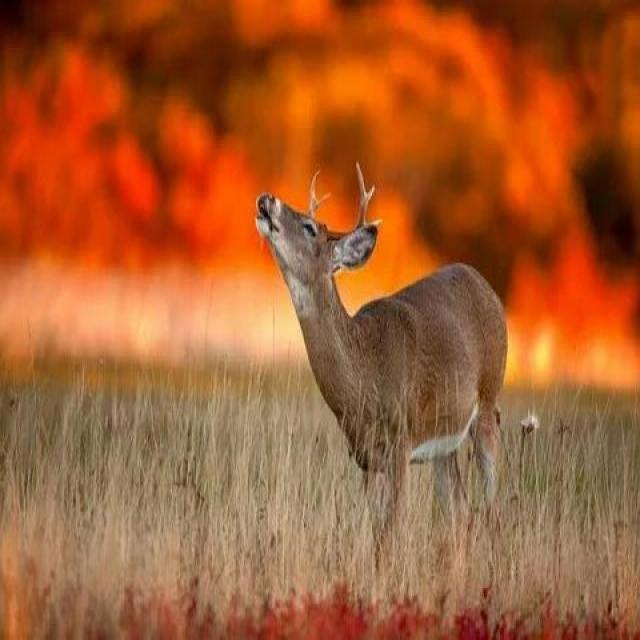deer: (203, 106, 521, 523)
